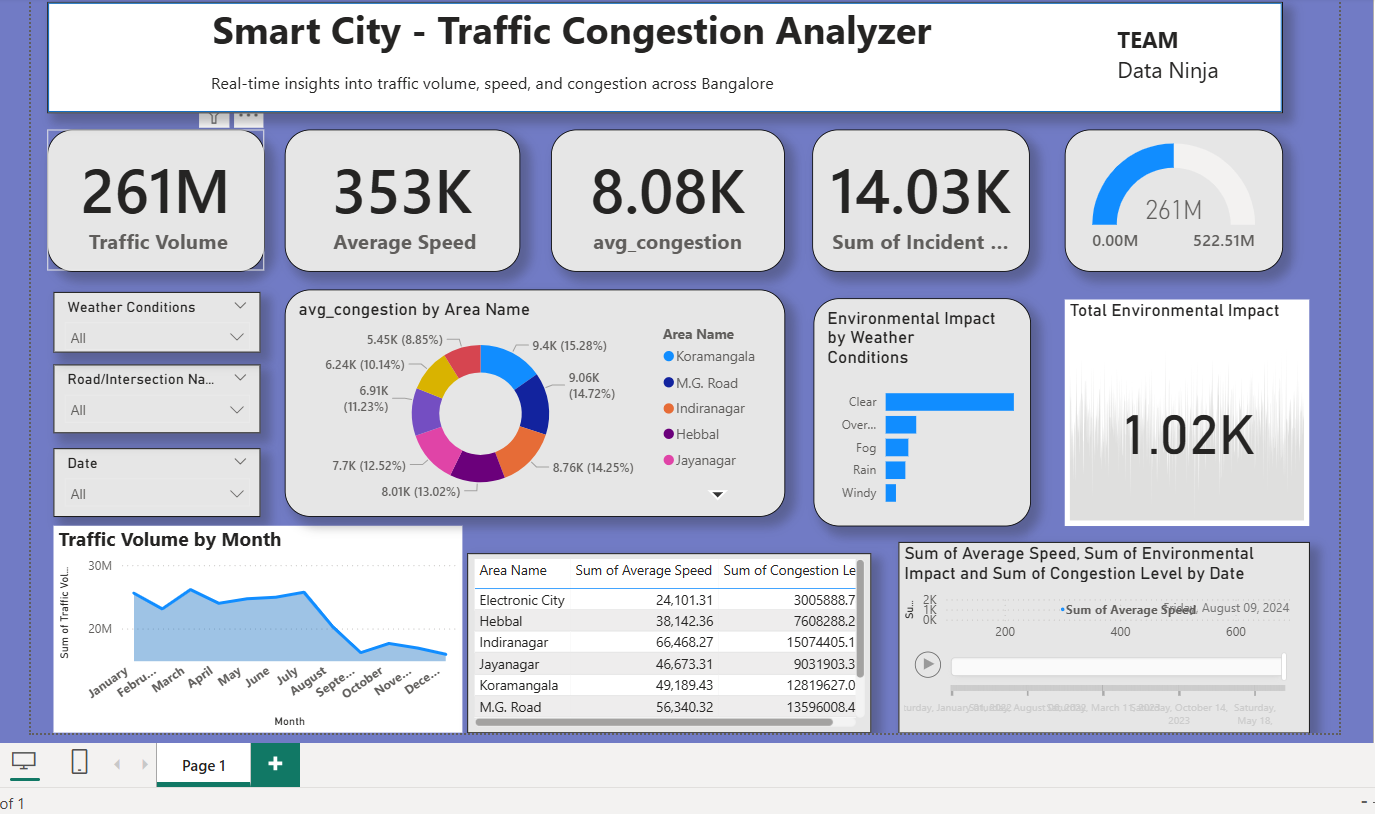

Layout of this report page (visuals, bound fields, positions):
{"tool":"powerbi","page":{"name":"Page 1","canvas":[1280,720],"ordinal":0},"visuals":[{"type":"card","fields":{"Values":["Sum(Banglore_traffic_Dataset.Traffic Volume)"]},"box":[16.5,129.1,212.7,139.2],"z":0},{"type":"card","fields":{"Values":["Sum(Banglore_traffic_Dataset.Average Speed)"]},"box":[248.1,129.1,230.4,139.2],"z":1000},{"type":"shape","box":[16.5,5.1,1208.9,108.9],"z":2000},{"type":"textbox","box":[122.8,1.3,813.9,112.7],"z":3000},{"type":"card","fields":{"Values":["Banglore_traffic_Dataset.avg_congestion"]},"box":[508.9,129.1,229.1,139.2],"z":4000},{"type":"card","fields":{"Values":["Sum(Banglore_traffic_Dataset.Incident Reports)"]},"box":[764.6,129.1,212.7,139.2],"z":5000},{"type":"gauge","fields":{"Y":["Sum(Banglore_traffic_Dataset.Traffic Volume)"],"MinValue":["Banglore_traffic_Dataset.zero value"]},"box":[1011.4,129.1,213.9,139.2],"z":6000},{"type":"slicer","fields":{"Values":["Banglore_traffic_Dataset.Date"]},"box":[21.5,441.8,202.5,67.1],"z":7000},{"type":"slicer","fields":{"Values":["Banglore_traffic_Dataset.Road/Intersection Name"]},"box":[21.5,359.5,202.5,67.1],"z":8000},{"type":"slicer","fields":{"Values":["Banglore_traffic_Dataset.Weather Conditions"]},"box":[21.5,288.6,202.5,59.5],"z":9000},{"type":"areaChart","title":"Traffic Volume by Month","fields":{"Category":["Banglore_traffic_Dataset.Date.Variation.Date Hierarchy.Month"],"Y":["Sum(Banglore_traffic_Dataset.Traffic Volume)"]},"box":[21.5,517.7,400,202.5],"z":10000},{"type":"tableEx","fields":{"Values":["Banglore_traffic_Dataset.Area Name","Sum(Banglore_traffic_Dataset.Average Speed)","Sum(Banglore_traffic_Dataset.Congestion Level)"]},"box":[426.6,544.3,394.9,175.9],"z":11000},{"type":"donutChart","fields":{"Category":["Banglore_traffic_Dataset.Area Name"],"Y":["Banglore_traffic_Dataset.avg_congestion"]},"box":[248.1,286.1,489.9,222.8],"z":12000},{"type":"clusteredBarChart","title":" Environmental Impact by Weather Conditions","fields":{"Category":["Banglore_traffic_Dataset.Weather Conditions"],"Y":["Sum(Banglore_traffic_Dataset.Environmental Impact)"]},"box":[765,295,213,223],"z":13000},{"type":"kpi","title":"Total Environmental Impact ","fields":{"TrendLine":["Banglore_traffic_Dataset.Date"],"Indicator":["Sum(Banglore_traffic_Dataset.Environmental Impact)"]},"box":[1011.4,296.2,239.2,221.5],"z":14000},{"type":"scatterChart","fields":{"X":["Sum(Banglore_traffic_Dataset.Average Speed)"],"Y":["Sum(Banglore_traffic_Dataset.Environmental Impact)"],"Size":["Sum(Banglore_traffic_Dataset.Congestion Level)"],"Play":["Banglore_traffic_Dataset.Date"]},"box":[848.1,532.9,402.5,187.3],"z":15000},{"type":"textbox","box":[170.9,67.1,616.5,62],"z":16000},{"type":"textbox","box":[1058.2,21.5,148.1,75.9],"z":17000}]}

Visuals, with their boxes in screenshot pixels (x1, y1, x2, y2):
card - Sum(Banglore_traffic_Dataset.Traffic Volume): (x1=46, y1=125, x2=263, y2=267)
card - Sum(Banglore_traffic_Dataset.Average Speed): (x1=282, y1=125, x2=518, y2=267)
shape: (x1=46, y1=0, x2=1281, y2=109)
textbox: (x1=154, y1=0, x2=986, y2=109)
card - Banglore_traffic_Dataset.avg_congestion: (x1=549, y1=125, x2=783, y2=267)
card - Sum(Banglore_traffic_Dataset.Incident Reports): (x1=810, y1=125, x2=1027, y2=267)
gauge - Sum(Banglore_traffic_Dataset.Traffic Volume) x Banglore_traffic_Dataset.zero value: (x1=1062, y1=125, x2=1281, y2=267)
slicer - Banglore_traffic_Dataset.Date: (x1=51, y1=444, x2=258, y2=513)
slicer - Banglore_traffic_Dataset.Road/Intersection Name: (x1=51, y1=360, x2=258, y2=429)
slicer - Banglore_traffic_Dataset.Weather Conditions: (x1=51, y1=288, x2=258, y2=349)
"Traffic Volume by Month" areaChart: (x1=51, y1=522, x2=459, y2=729)
tableEx - Banglore_traffic_Dataset.Area Name x Sum(Banglore_traffic_Dataset.Average Speed): (x1=465, y1=549, x2=868, y2=729)
donutChart - Banglore_traffic_Dataset.Area Name x Banglore_traffic_Dataset.avg_congestion: (x1=282, y1=285, x2=783, y2=513)
" Environmental Impact by Weather Conditions" clusteredBarChart: (x1=810, y1=294, x2=1028, y2=522)
"Total Environmental Impact " kpi: (x1=1062, y1=296, x2=1307, y2=522)
scatterChart - Sum(Banglore_traffic_Dataset.Average Speed) x Sum(Banglore_traffic_Dataset.Environmental Impact): (x1=895, y1=537, x2=1307, y2=729)
textbox: (x1=203, y1=61, x2=833, y2=125)
textbox: (x1=1110, y1=15, x2=1261, y2=92)
